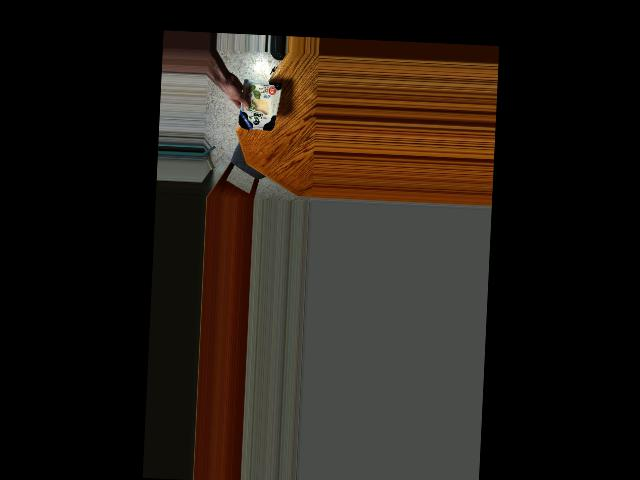cheese: (235, 69, 276, 137)
